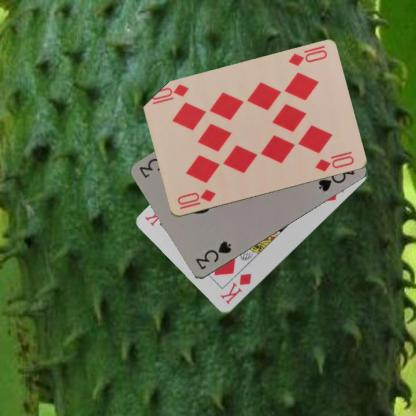10d: (174, 187, 218, 211), (286, 48, 328, 68)
3s: (192, 238, 233, 272)
Kd: (217, 271, 253, 306)
